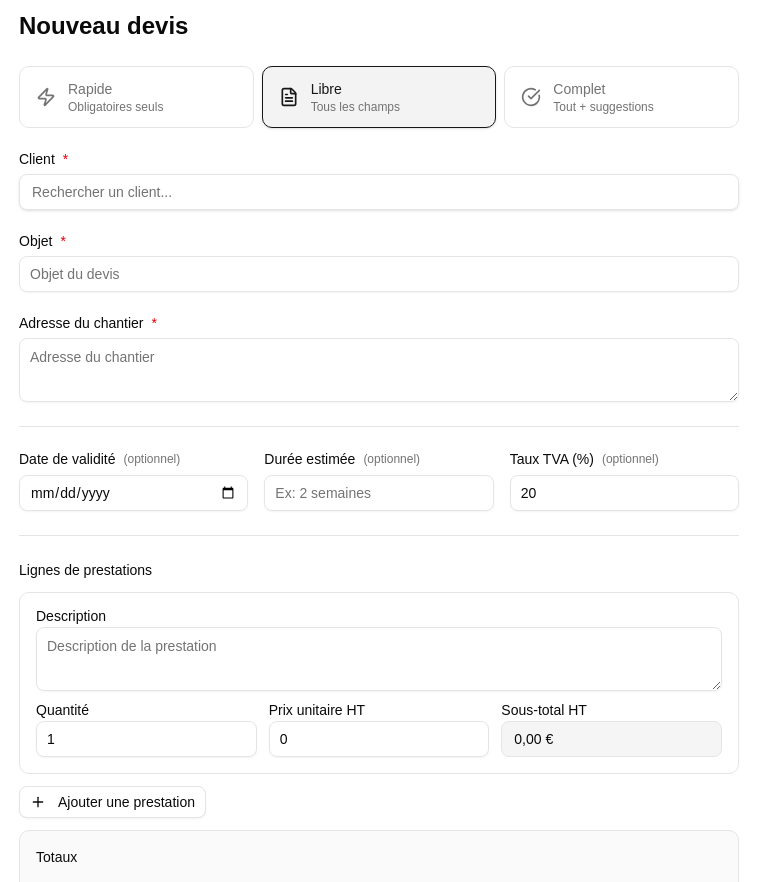
CreateDevisForm › validation — client obligatoire
Switch to rapide mode to avoid line validation
Click the text "Rapide": coordinates (90, 89) [68,81,112,97]
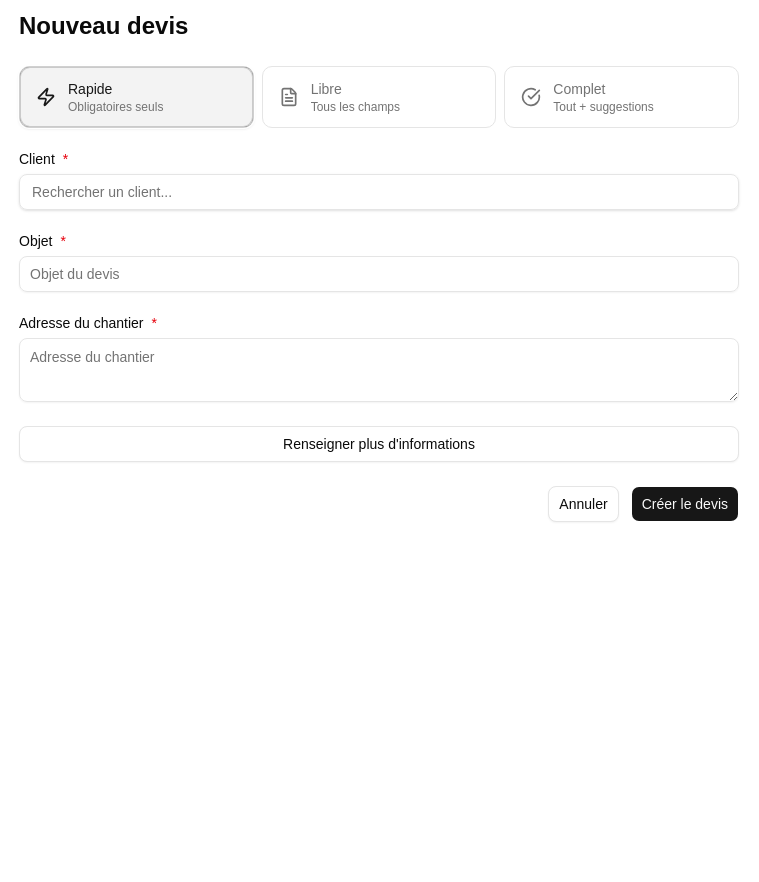
In the field labelled "Objet *": coordinates (379, 274) [19,256,739,292], type "Test"
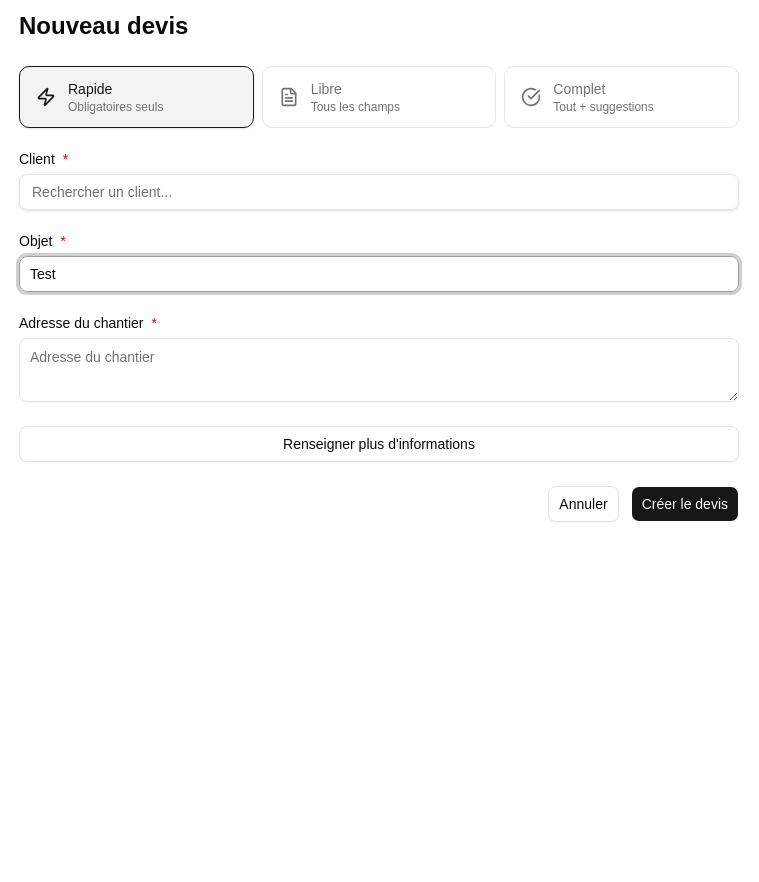
In the text box labelled "Adresse du chantier *": coordinates (379, 370) [19,338,739,402], type "1 rue"
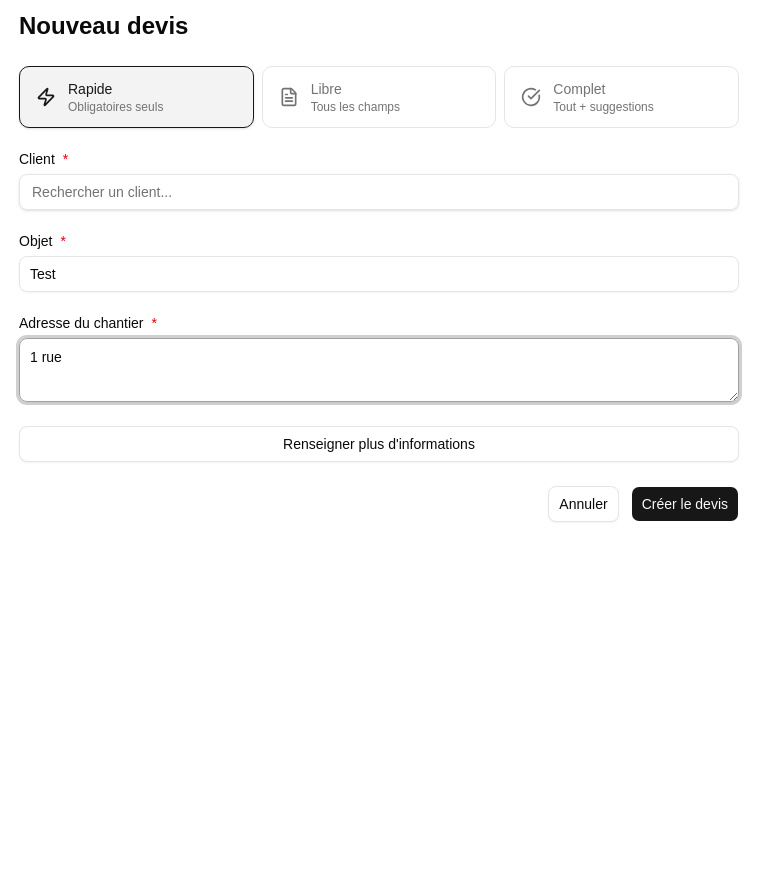
Click the button "Créer le devis": coordinates (685, 504) [631,486,739,522]
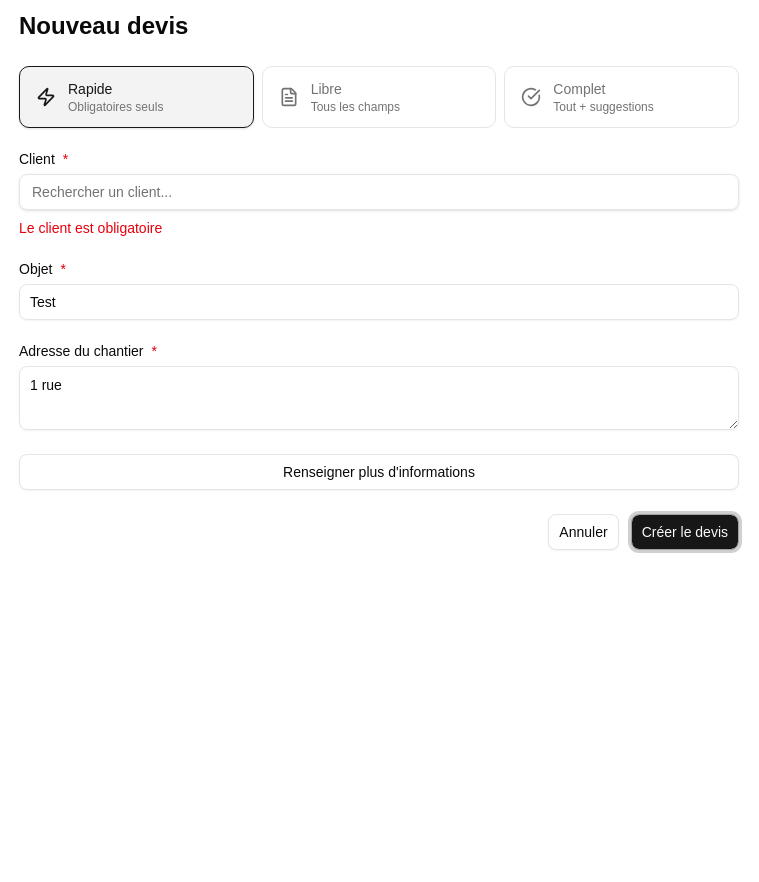
Check: the text "Le client est obligatoire" is shown, box [19,220,162,236]
